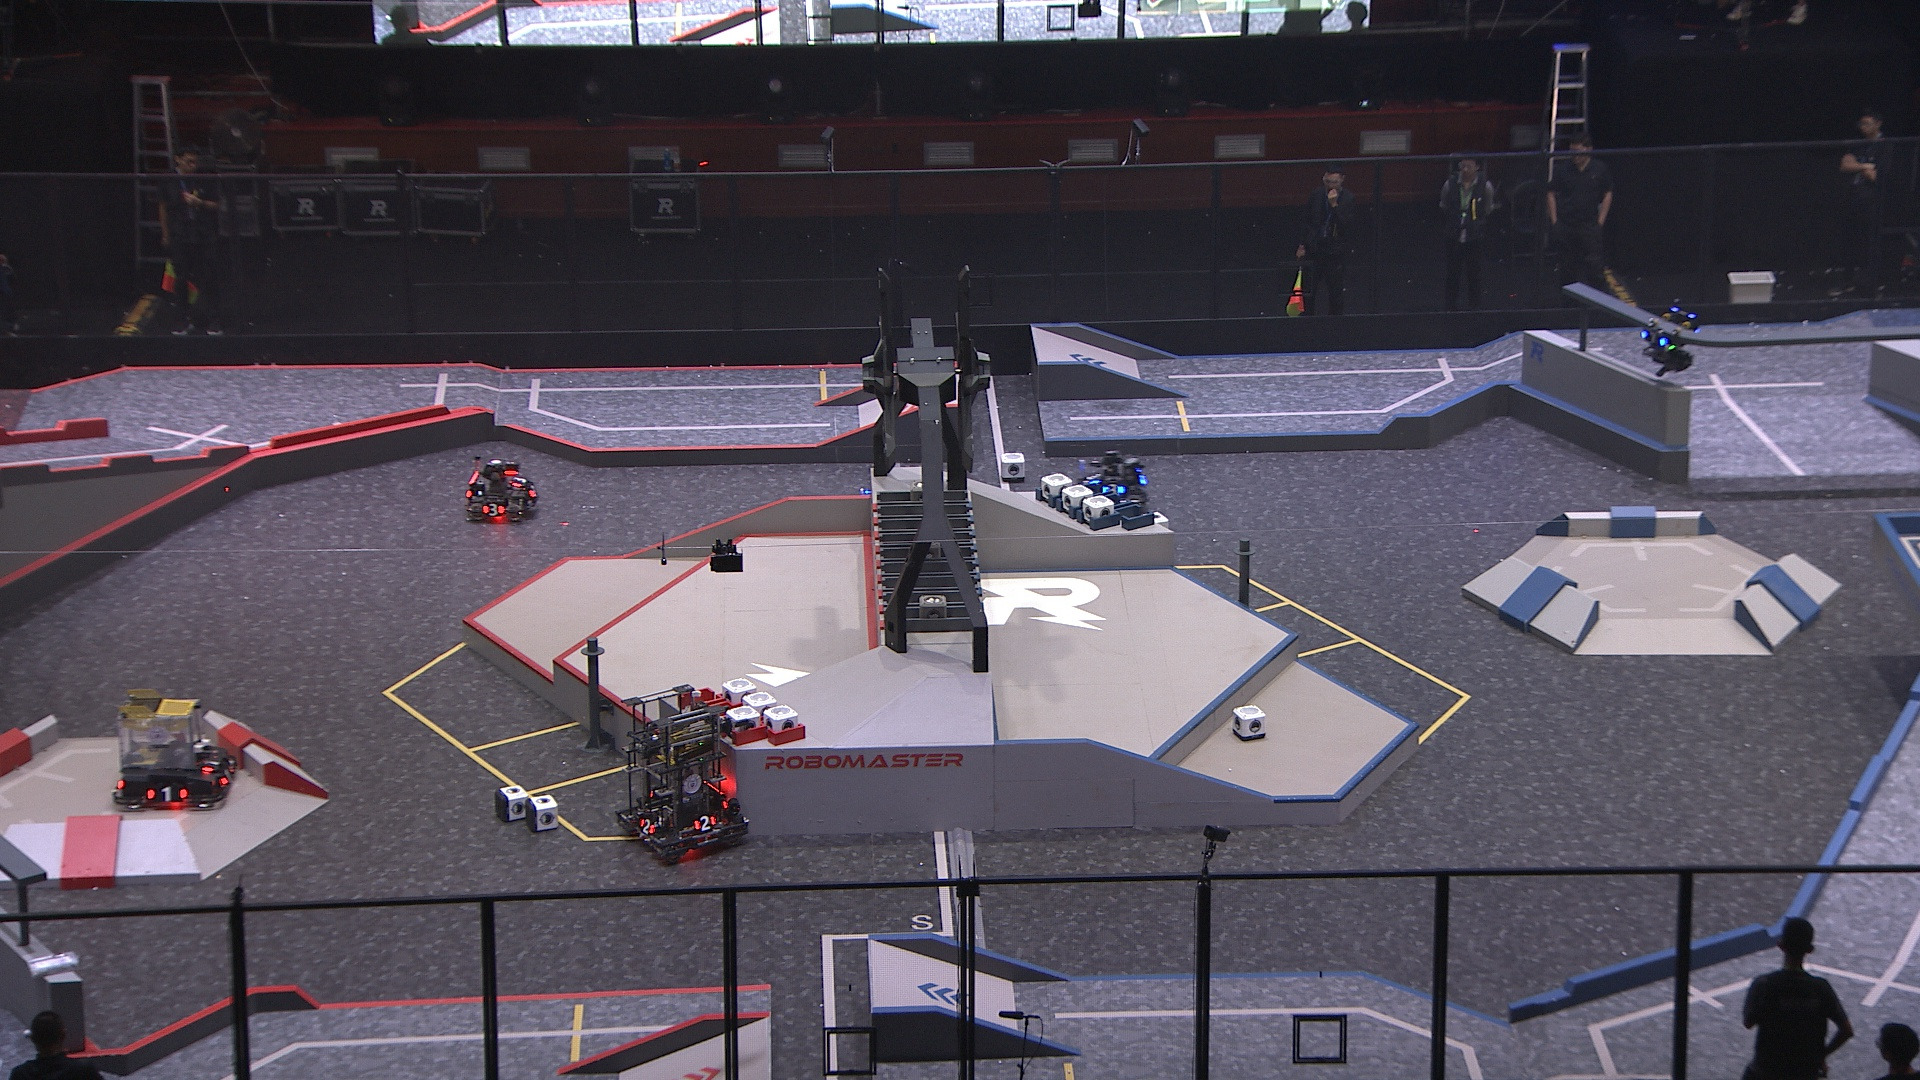armor: (144, 783, 190, 802), (196, 752, 223, 777), (1640, 328, 1669, 348), (216, 764, 237, 787), (480, 501, 505, 520), (692, 814, 717, 831), (508, 471, 529, 491), (1100, 483, 1125, 498), (637, 815, 655, 836), (524, 480, 539, 500), (1087, 469, 1102, 485)
car: (613, 680, 760, 858), (107, 688, 245, 816), (460, 458, 545, 524), (1076, 448, 1153, 504)
watcher: (1636, 295, 1702, 377)
